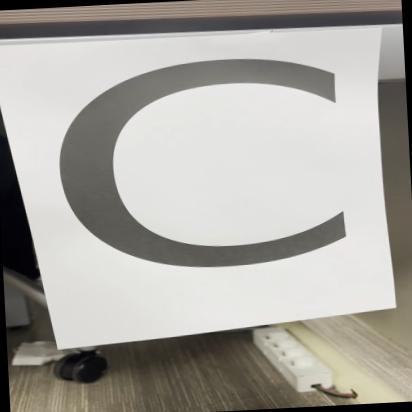seat: (0, 24, 407, 348)
